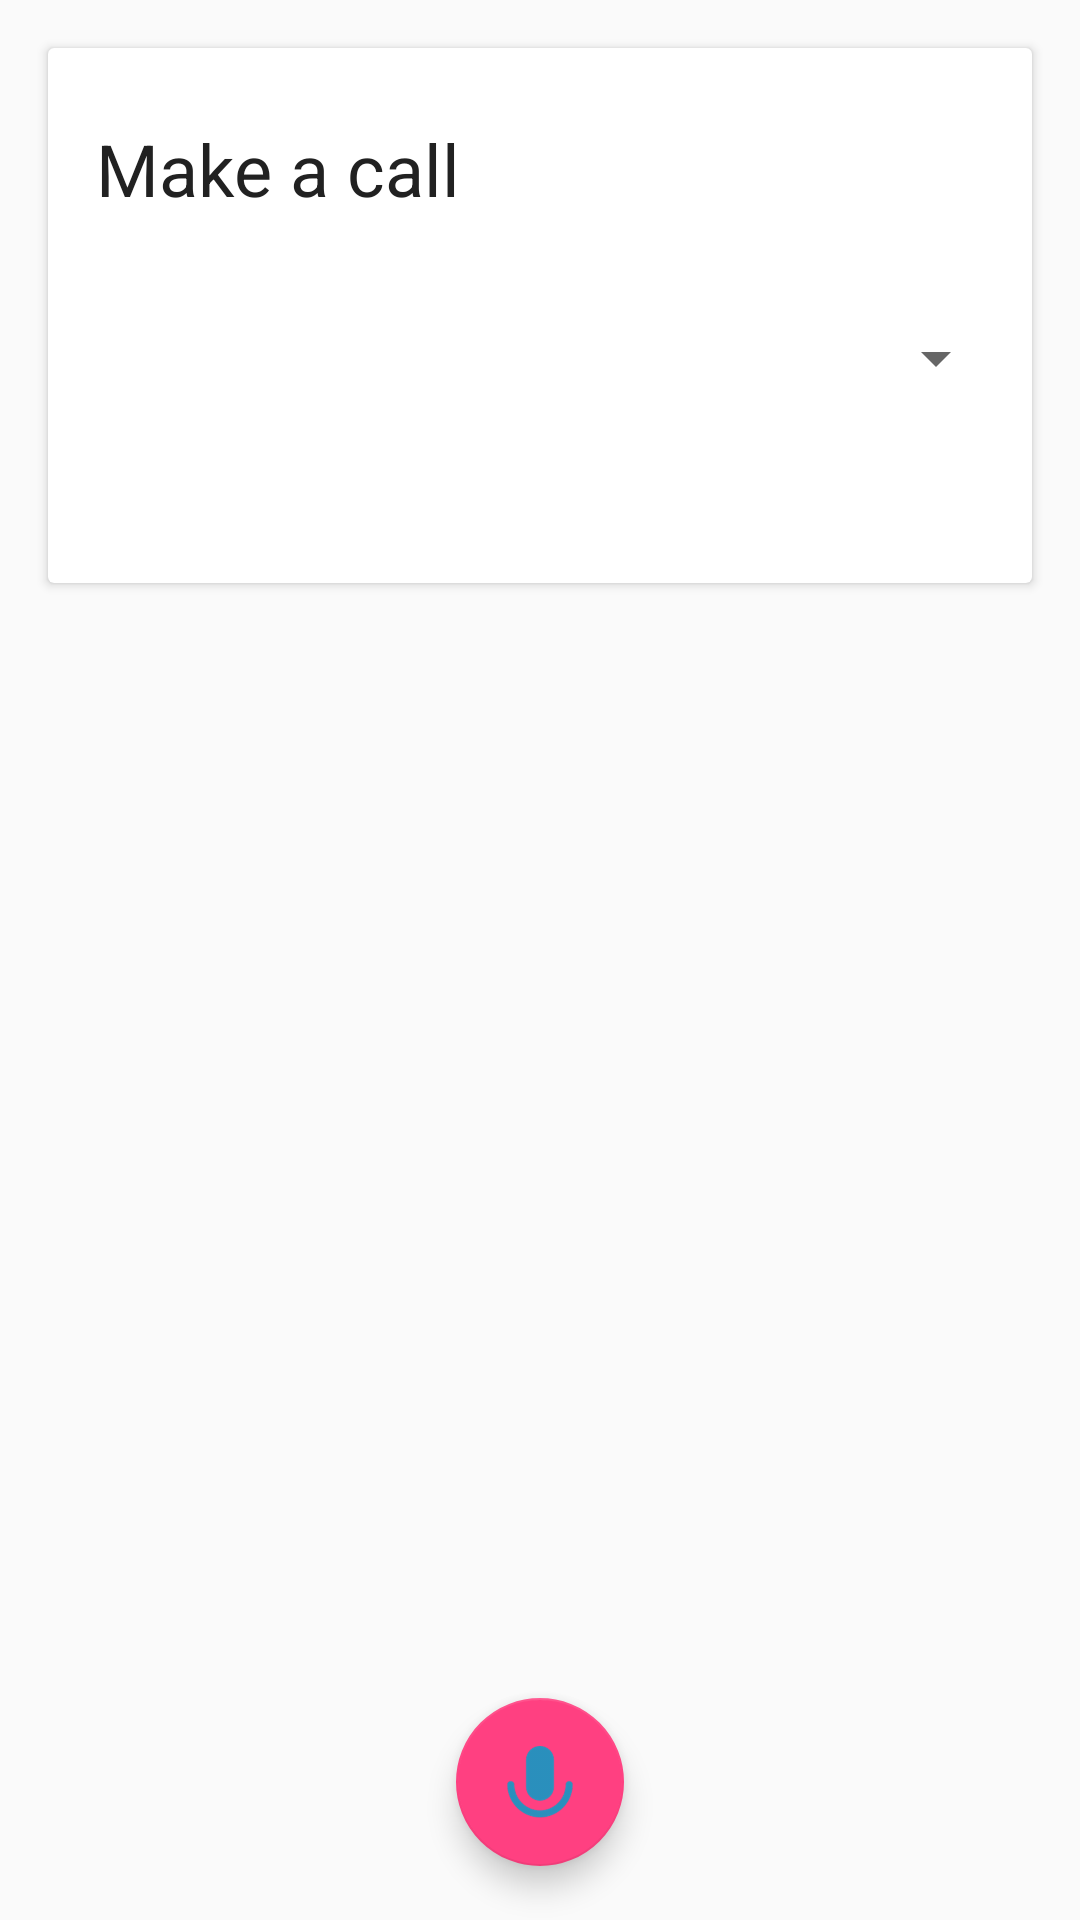

Icons on this 1080px×1920px Android screen, each with its box as (left=x1, top=y1, right=x2, bottom=y2):
caller id mic: (left=456, top=1698, right=624, bottom=1866)
